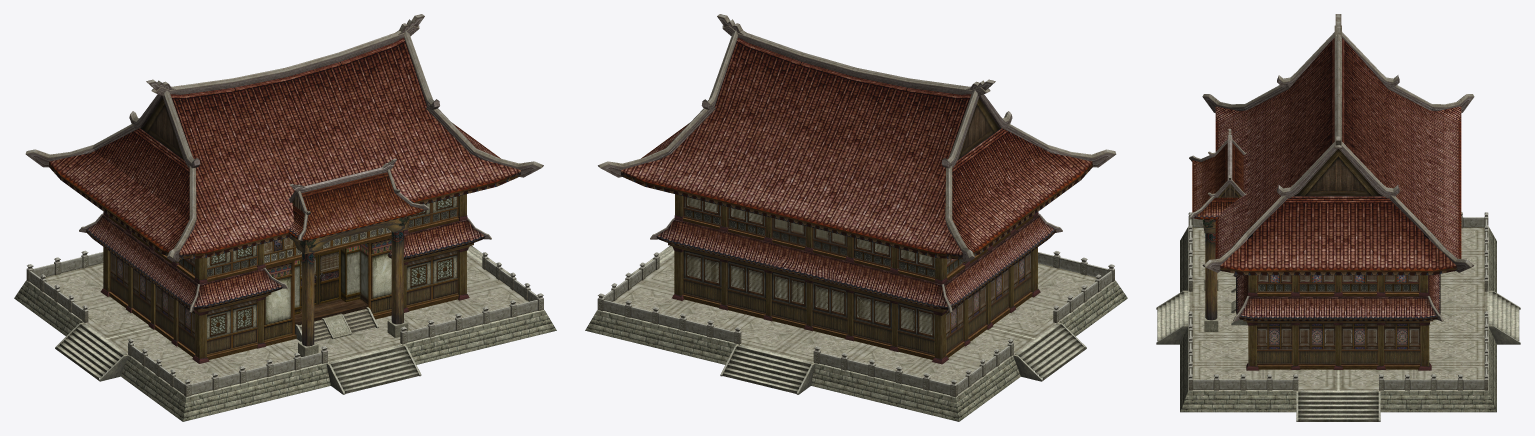
The model's file is a1-010-bank.fbx.
3 renders of one model, left to right at view 1: azimuth 30°, elevation 25°; view 2: azimuth 150°, elevation 25°; view 3: azimuth 270°, elevation 25°, orthographic. The views are drawn at different scales.
Visible parts, largest first — view 1: Object01; view 2: Object01; view 3: Object01.
Boxes of the visible parts, x1,y1,x2,y2 form: Object01: (14, 14, 556, 421); Object01: (585, 14, 1127, 421); Object01: (1156, 14, 1520, 421).
Size of the model in its own units: 24.99 by 15.27 by 20.19.
